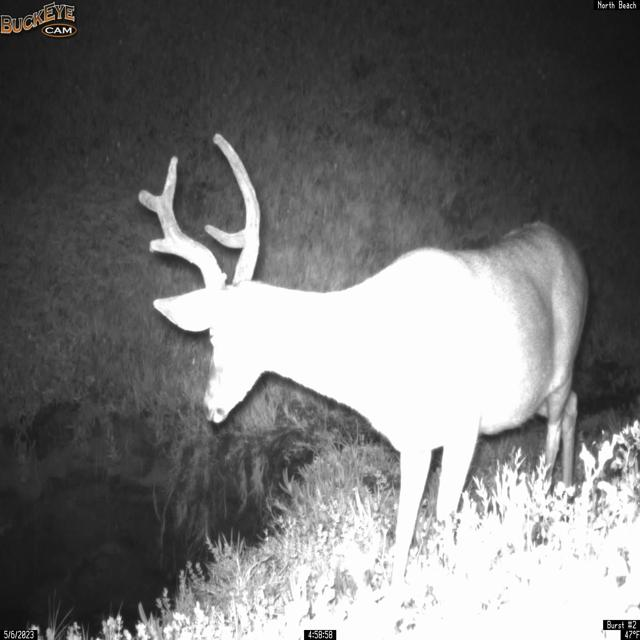deer: (137, 131, 591, 624)
